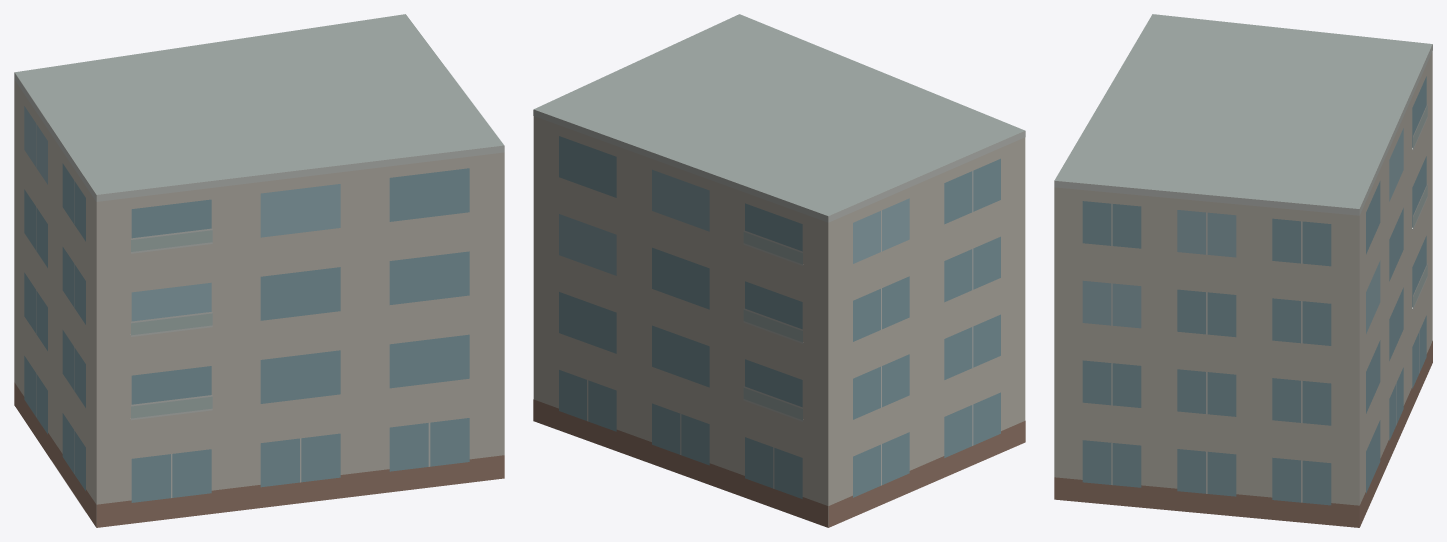
The model's file is survey-upis-32808103.glb.
3 views of the same model, side by side, from view 1: azimuth 30°, elevation 25°; view 2: azimuth 150°, elevation 25°; view 3: azimuth 270°, elevation 25° (orthographic). The views are drawn at different scales.
Parts seen in each view (by area): view 1: survey-upis-32808103.tmp; view 2: survey-upis-32808103.tmp; view 3: survey-upis-32808103.tmp.
Boxes of the visible parts, x1,y1,x2,y2 form: survey-upis-32808103.tmp: (14, 14, 504, 527); survey-upis-32808103.tmp: (533, 14, 1025, 527); survey-upis-32808103.tmp: (1054, 14, 1432, 527).
Size of the model in its own units: 15.36 by 11.7 by 12.6.
